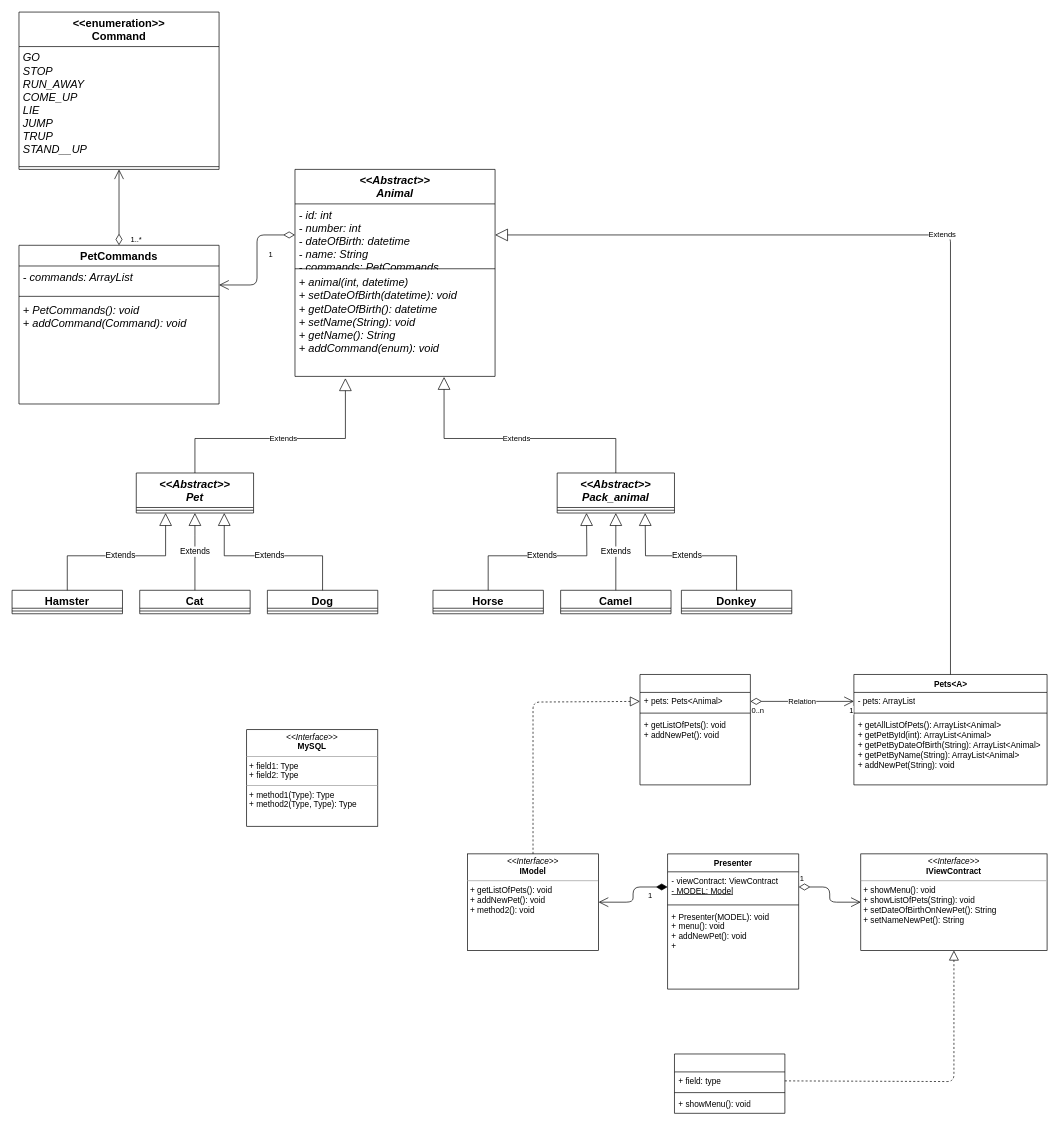
Some shapes in this 1059 by 1127 pixel diagram are drawn without their labels. The box of each missing label's shape, as (x1, y1, x2, y2) in pixels:
Model: (639, 674, 750, 785)
View: (674, 1053, 785, 1113)
